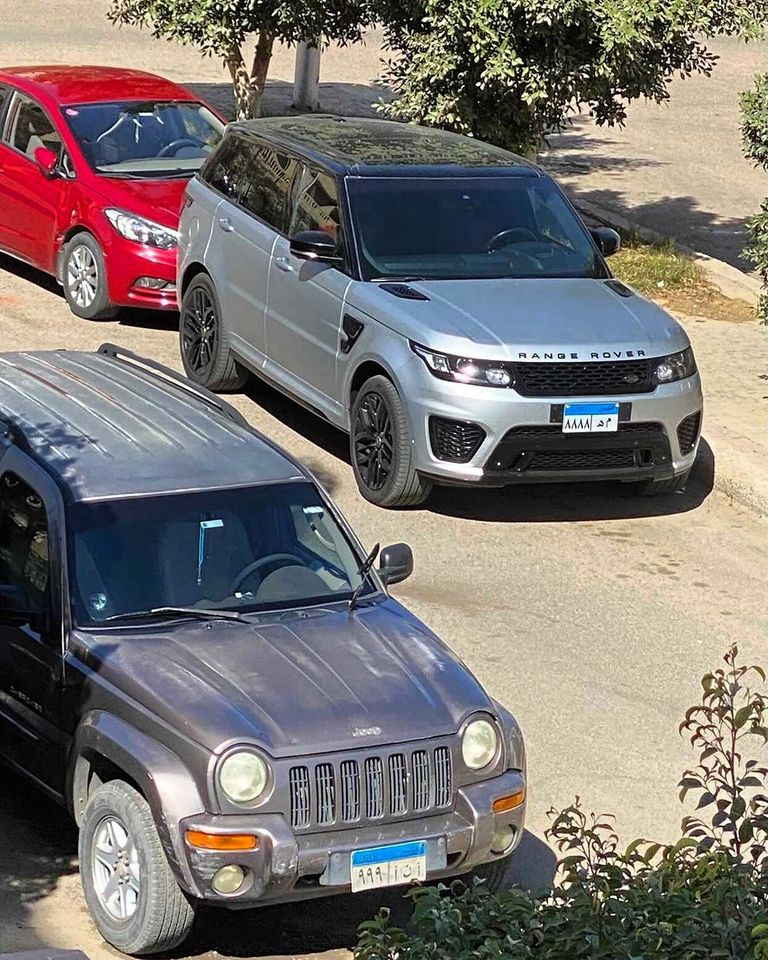carpl: (350, 844, 432, 890), (560, 403, 624, 433)
